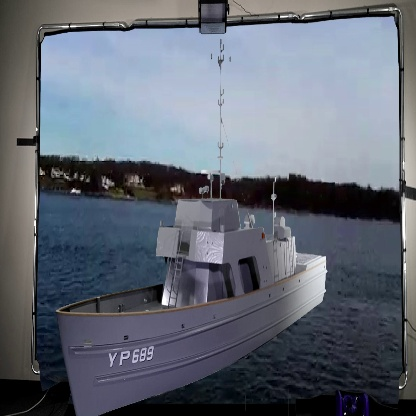YP689: (58, 36, 329, 415)
